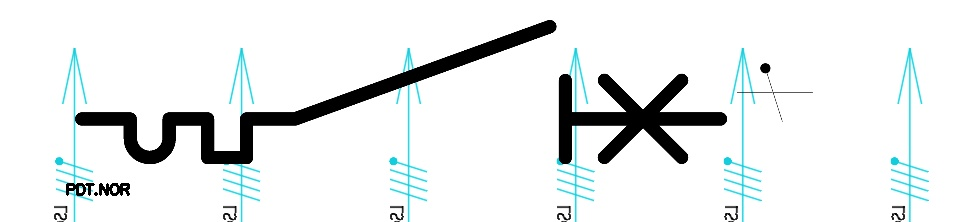interruptor_termomagnetico: (65, 10, 737, 174)
